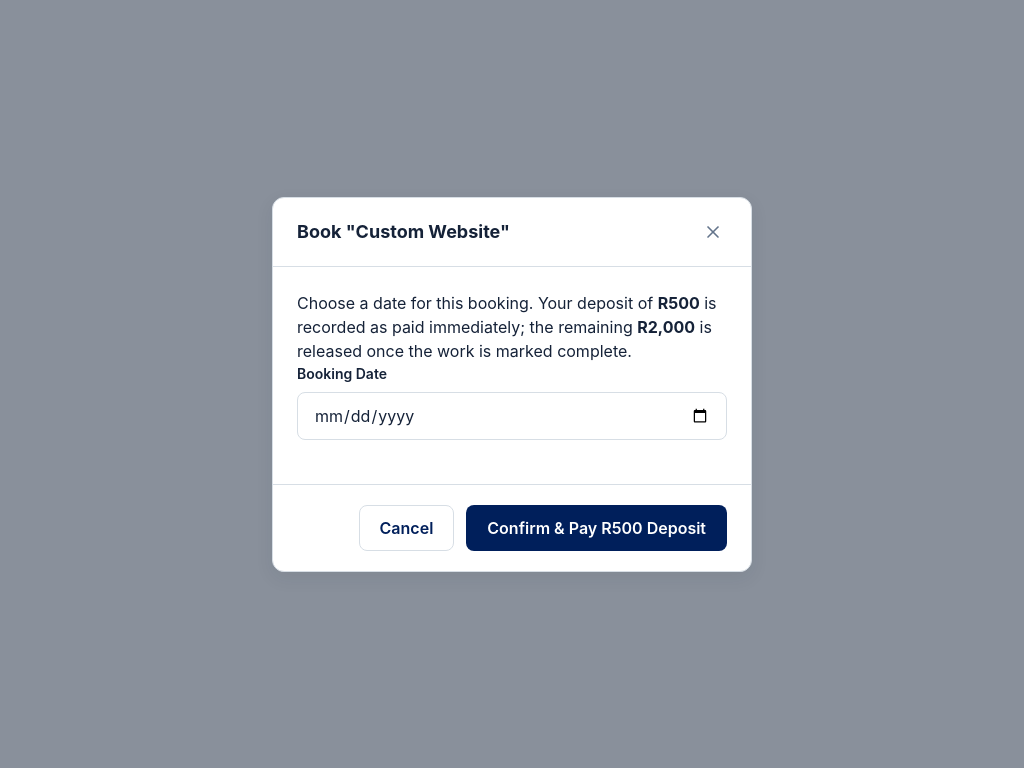
Test: Booking modal › shows the backend's message when booking fails, and lets the user try again
The image size is (1024, 768).
Type "2999-01-15" into the date field labelled "Booking Date". click: (512, 416)
box: [297,392,727,440]
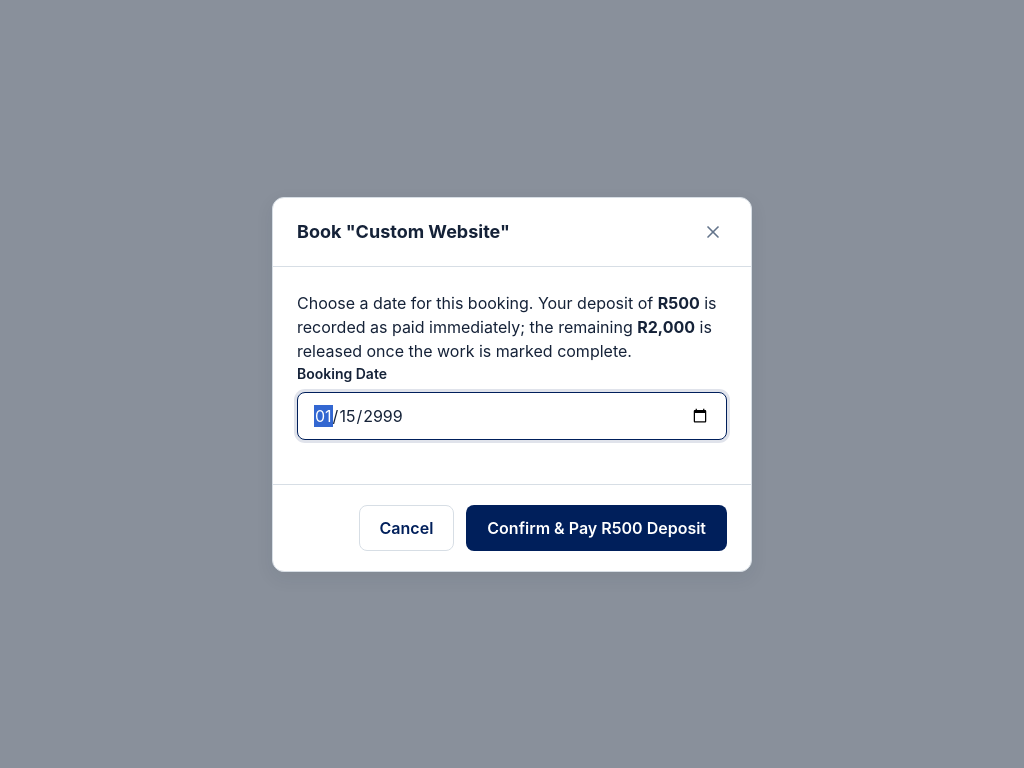
Click the button "Confirm & Pay R500 Deposit". click: click(597, 528)
box: [466,504,727,550]
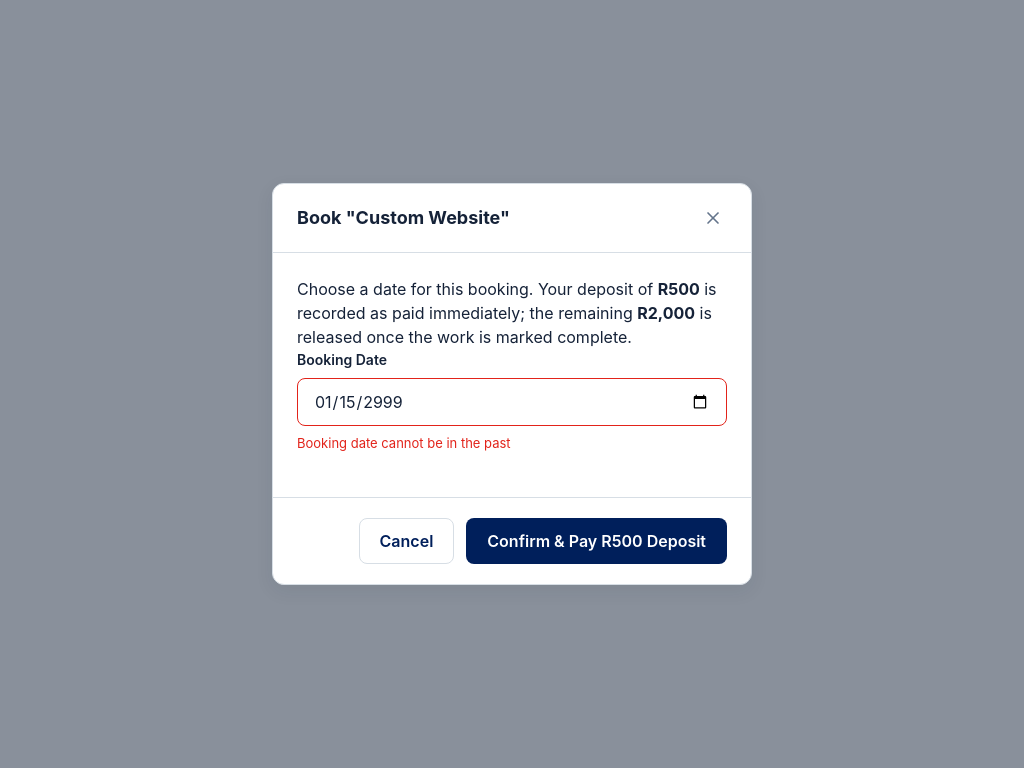
expect the button "Confirm & Pay R500 Deposit" is enabled: met, box [466,518,727,564]
expect the text "Booking date cannot be in the past" is shown: met, box [297,435,511,451]
